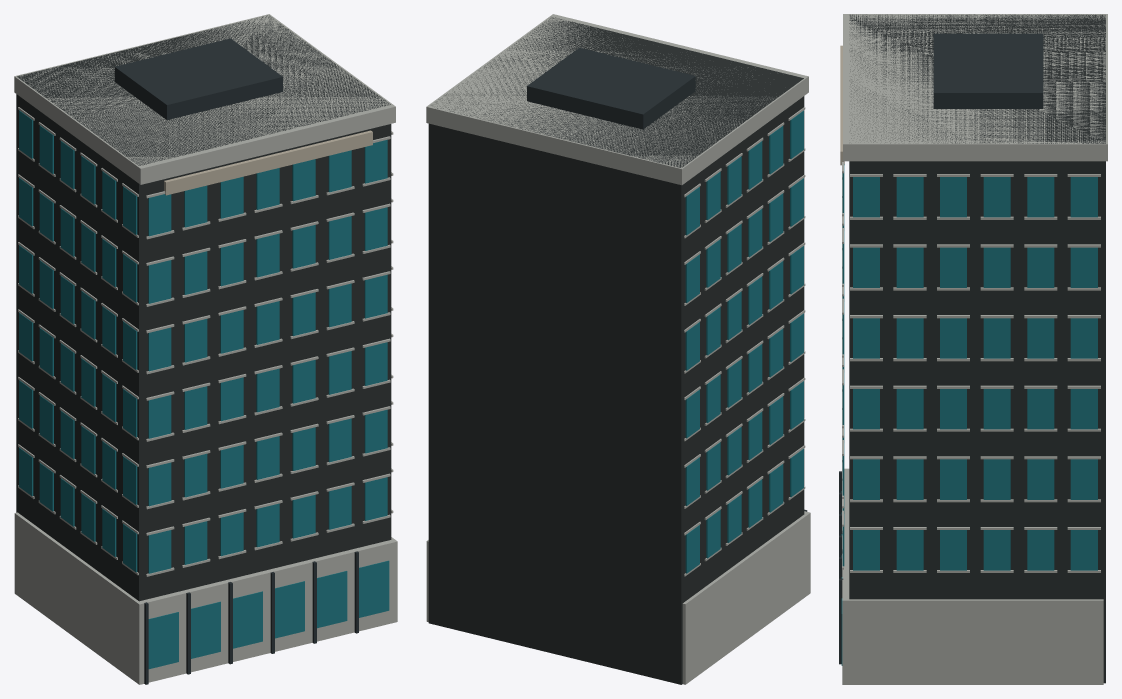
The model's file is JHB_MidRise05_LOD1.fbx.
3 renders of one model, left to right at view 1: azimuth 30°, elevation 25°; view 2: azimuth 150°, elevation 25°; view 3: azimuth 270°, elevation 25°, orthographic. The views are drawn at different scales.
Visible parts, largest first — view 1: JHB_MidRise05_LOD1_FacadeAtlas, JHB_MidRise05_LOD1_TealGlass, JHB_MidRise05_LOD1_Concrete, JHB_MidRise05_LOD1_DarkMetal, JHB_MidRise05_LOD1_BlankSignBand; view 2: JHB_MidRise05_LOD1_FacadeAtlas, JHB_MidRise05_LOD1_Concrete, JHB_MidRise05_LOD1_TealGlass, JHB_MidRise05_LOD1_DarkMetal; view 3: JHB_MidRise05_LOD1_FacadeAtlas, JHB_MidRise05_LOD1_Concrete, JHB_MidRise05_LOD1_TealGlass, JHB_MidRise05_LOD1_DarkMetal.
Part boxes in pixels (x1=…): JHB_MidRise05_LOD1_FacadeAtlas: x1=16, y1=15, x2=391, y2=601; JHB_MidRise05_LOD1_TealGlass: x1=19, y1=110, x2=389, y2=669; JHB_MidRise05_LOD1_Concrete: x1=14, y1=14, x2=397, y2=684; JHB_MidRise05_LOD1_DarkMetal: x1=114, y1=38, x2=358, y2=684; JHB_MidRise05_LOD1_BlankSignBand: x1=164, y1=130, x2=372, y2=195; JHB_MidRise05_LOD1_FacadeAtlas: x1=428, y1=17, x2=804, y2=684; JHB_MidRise05_LOD1_Concrete: x1=426, y1=14, x2=810, y2=684; JHB_MidRise05_LOD1_TealGlass: x1=685, y1=110, x2=803, y2=573; JHB_MidRise05_LOD1_DarkMetal: x1=527, y1=47, x2=807, y2=511; JHB_MidRise05_LOD1_FacadeAtlas: x1=849, y1=14, x2=1105, y2=683; JHB_MidRise05_LOD1_Concrete: x1=842, y1=14, x2=1107, y2=684; JHB_MidRise05_LOD1_TealGlass: x1=841, y1=164, x2=1097, y2=665; JHB_MidRise05_LOD1_DarkMetal: x1=839, y1=33, x2=1043, y2=664.
Bounding box in the file's own units: 10.75 × 21.1 × 9.25.
5 materials, 1 textured.
